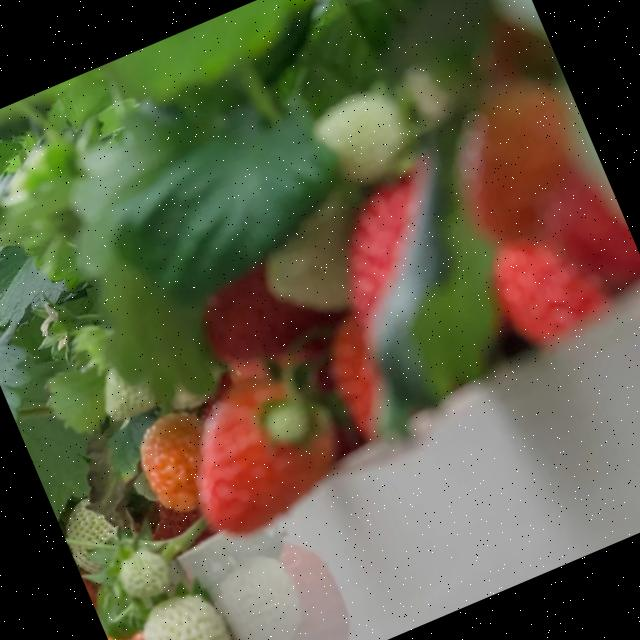Ripe Strawberry: (160, 353, 360, 545), (463, 165, 640, 356), (317, 174, 459, 318), (192, 248, 344, 374), (146, 488, 214, 556), (108, 608, 224, 640)
